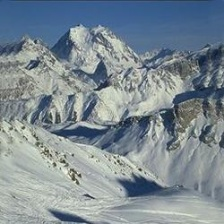neutral: (1, 2, 222, 222)
